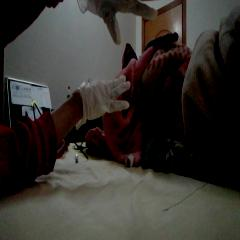gloved: (77, 0, 158, 43), (74, 73, 130, 117)
